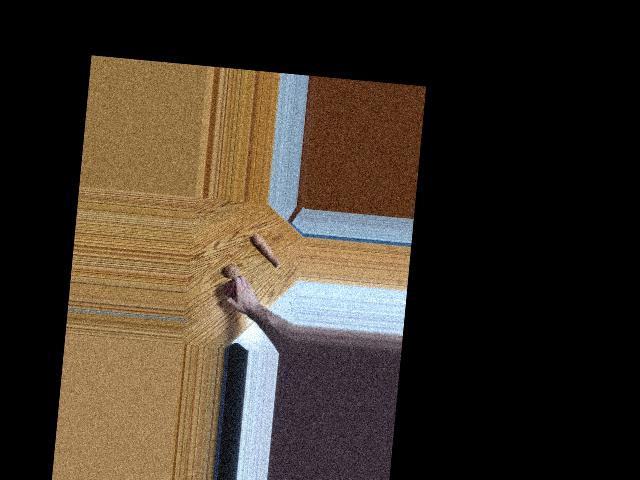onion: (224, 278, 241, 295)
